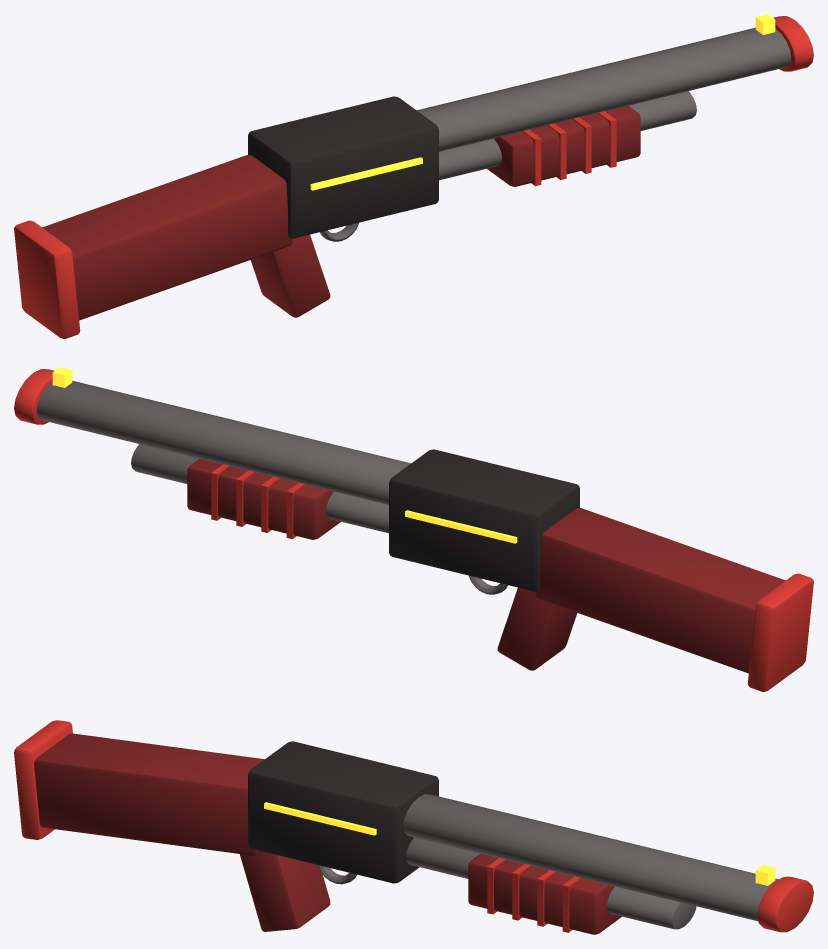
The model's file is SGP_Shotgun_Inferno.glb.
3 renders of one model, top to bottom at view 1: azimuth 30°, elevation 25°; view 2: azimuth 150°, elevation 25°; view 3: azimuth 330°, elevation 25°, orthographic.
Visible parts, largest first — view 1: SGP_Shotgun_Inferno; view 2: SGP_Shotgun_Inferno; view 3: SGP_Shotgun_Inferno.
Part boxes in pixels (x1,y1,x2,y2): SGP_Shotgun_Inferno: [14, 14, 813, 338]; SGP_Shotgun_Inferno: [14, 367, 813, 691]; SGP_Shotgun_Inferno: [14, 720, 813, 934].
Size of the model in its own units: 0.759 by 0.1617 by 0.0832.
